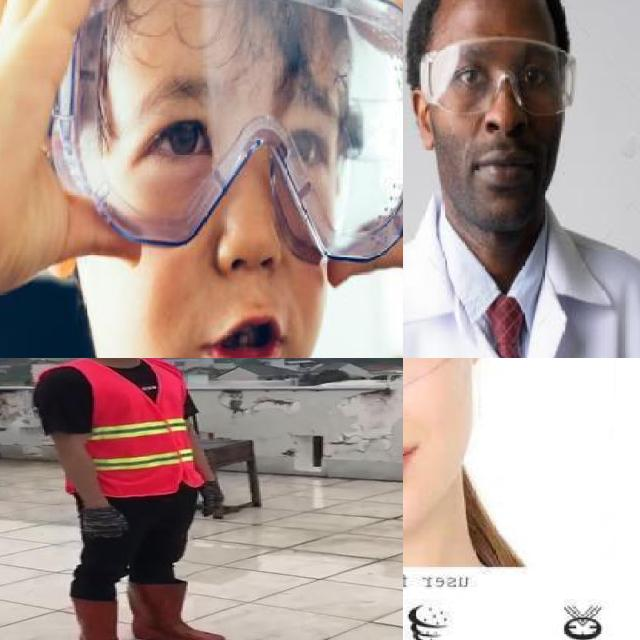boots: (131, 577, 229, 640), (56, 593, 159, 640)
face_nomask: (119, 95, 338, 358), (439, 43, 560, 197)
glasses: (56, 0, 403, 256), (419, 34, 577, 121)
hand_noglove: (0, 0, 152, 265), (341, 0, 403, 292)
head_nohelmet: (412, 0, 570, 18)
person: (403, 0, 640, 358), (14, 358, 266, 640)
vest: (44, 364, 202, 498)
